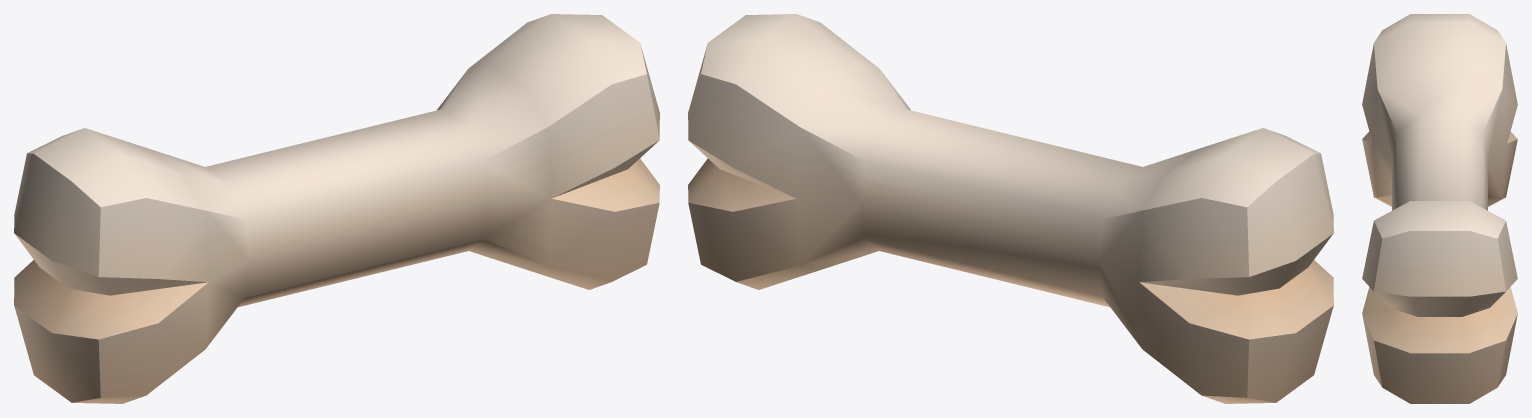
The model's file is d_kaykit_os.glb.
3 views of the same model, side by side, from view 1: azimuth 30°, elevation 25°; view 2: azimuth 150°, elevation 25°; view 3: azimuth 270°, elevation 25° (orthographic). The views are drawn at different scales.
Parts seen in each view (by area): view 1: d_kaykit_os; view 2: d_kaykit_os; view 3: d_kaykit_os.
Boxes of the visible parts, <box> form: d_kaykit_os: <box>14,14,659,403</box>; d_kaykit_os: <box>688,14,1333,403</box>; d_kaykit_os: <box>1362,14,1517,403</box>.
Bounding box in the file's own units: 0.707 × 0.2761 × 0.2007.
Materials: 1 (1 with a texture image).
